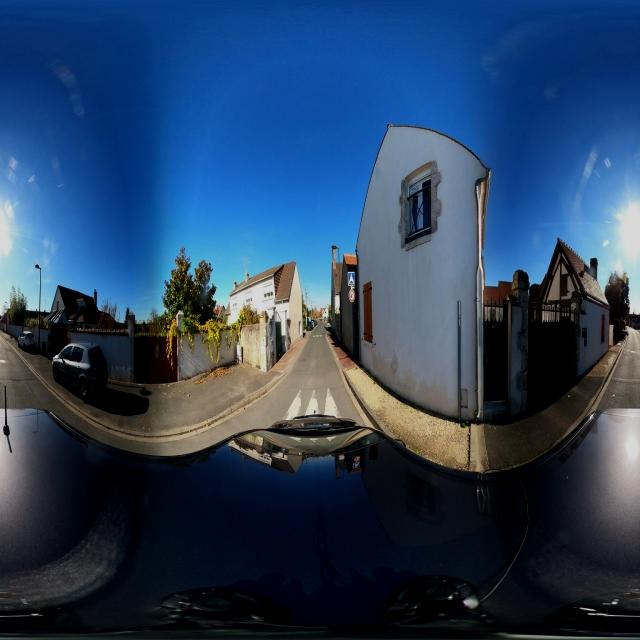car: (52, 342, 108, 401), (18, 331, 36, 351)
